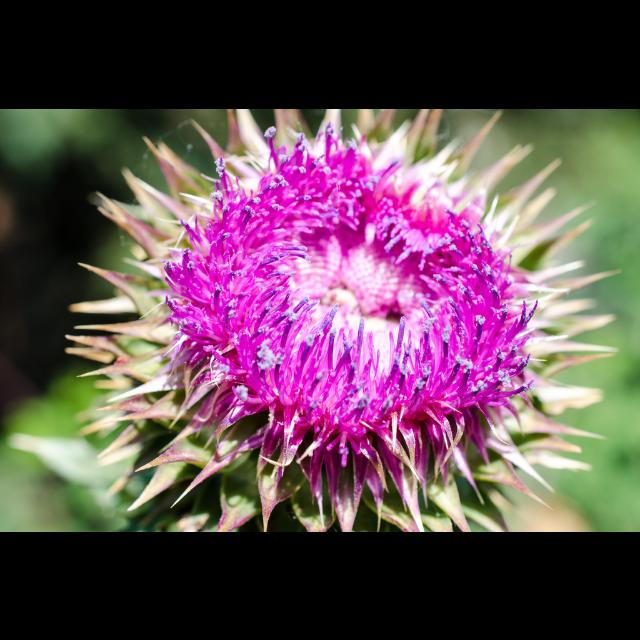Flower: (154, 118, 540, 510)
